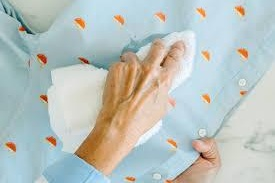oil: (141, 31, 163, 44), (124, 39, 142, 50)
